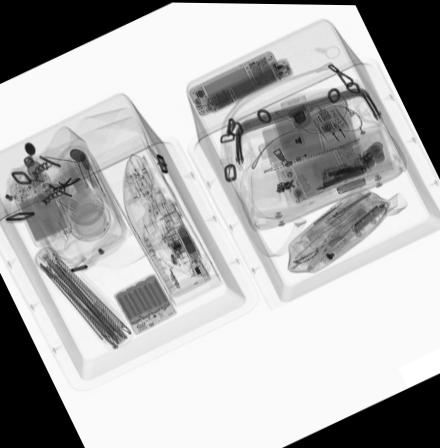Powerbank: (5, 169, 73, 247), (112, 272, 175, 333)
